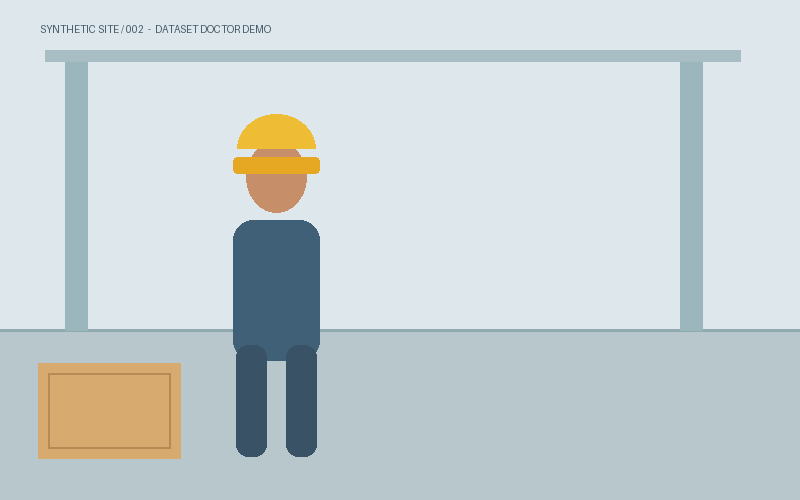Safety-Helmet: (233, 127, 319, 173)
